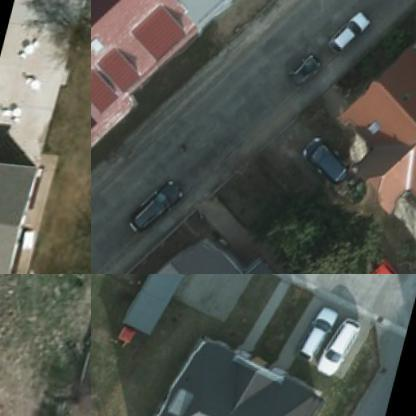car: (126, 174, 190, 244), (293, 140, 359, 193), (315, 323, 360, 391), (276, 52, 326, 104), (324, 15, 373, 66), (300, 312, 342, 370)
